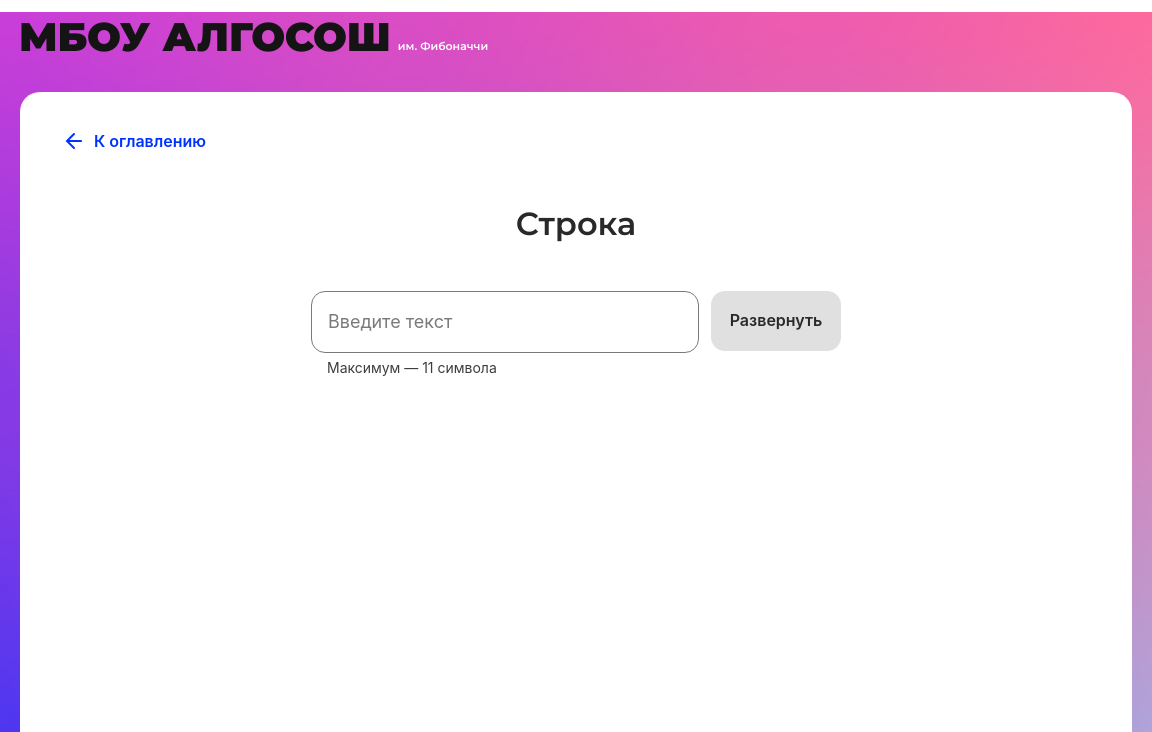
Test: string works right › reversing works correctly
Type "01234" into the field with test id "mainInput".
click(505, 322); type("01234")  # box left=311, top=291, right=699, bottom=353
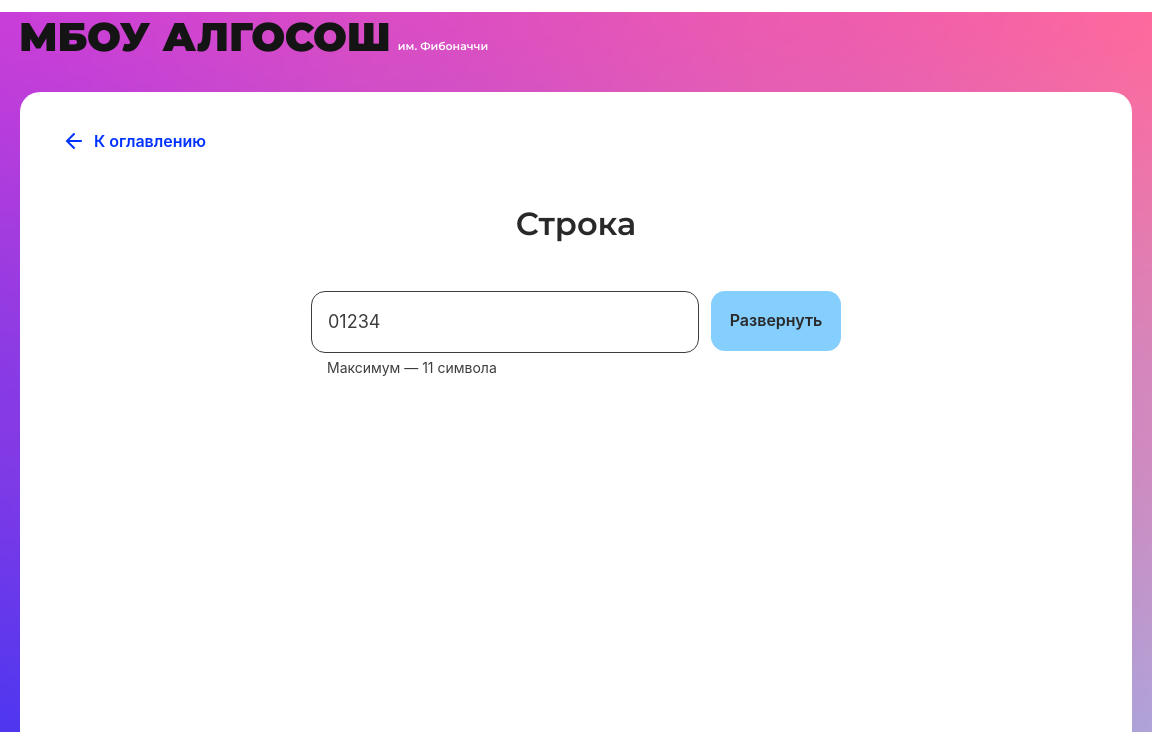
Click the button with test id "actionButton".
click(776, 321)  # box left=711, top=291, right=841, bottom=351
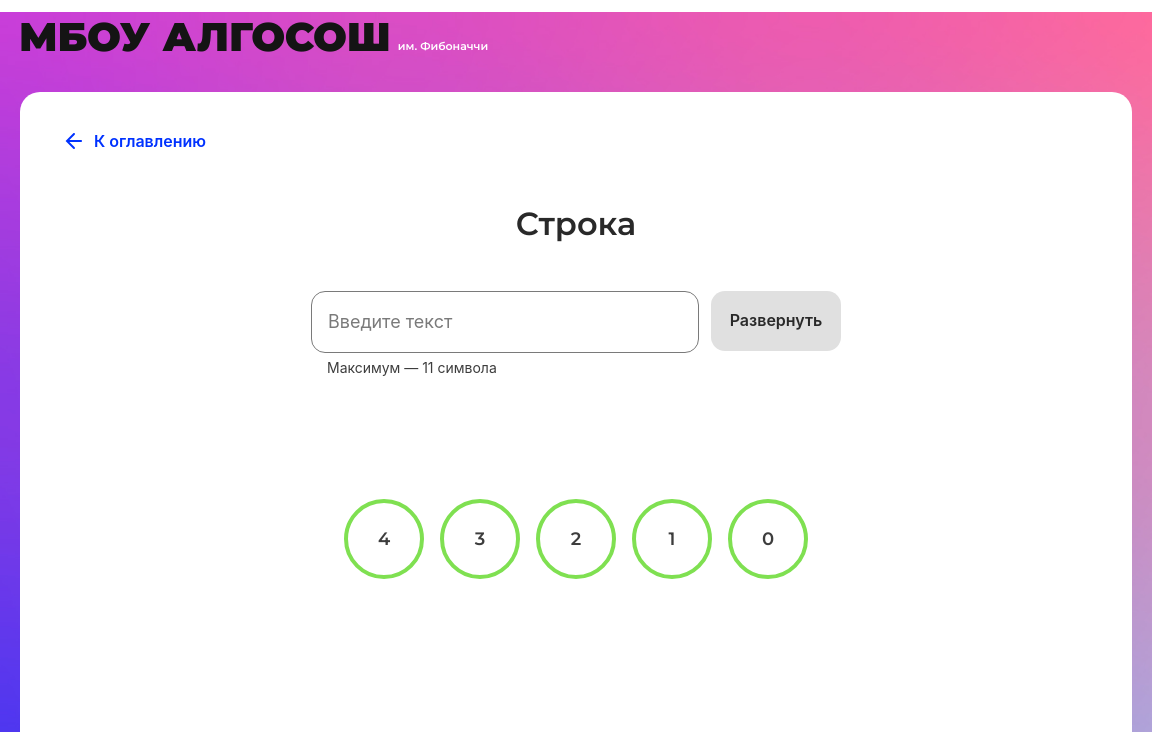
Now the number of elements with test id "circleInsides" is 5, box left=728, top=499, right=808, bottom=579; left=632, top=499, right=712, bottom=579; left=536, top=499, right=616, bottom=579; left=440, top=499, right=520, bottom=579; left=344, top=499, right=424, bottom=579
Now the text with test id "circleInsides" reads "0", box left=762, top=528, right=774, bottom=550
Now the text with test id "circleInsides" reads "1", box left=669, top=528, right=676, bottom=550
